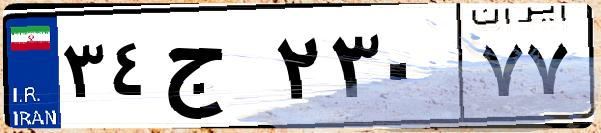0: (385, 28, 445, 110)
2: (270, 28, 330, 110)
3: (330, 28, 385, 110), (57, 26, 110, 100)
4: (110, 28, 158, 98)
7: (475, 38, 525, 113), (525, 38, 570, 115)
ج: (158, 20, 270, 120)
